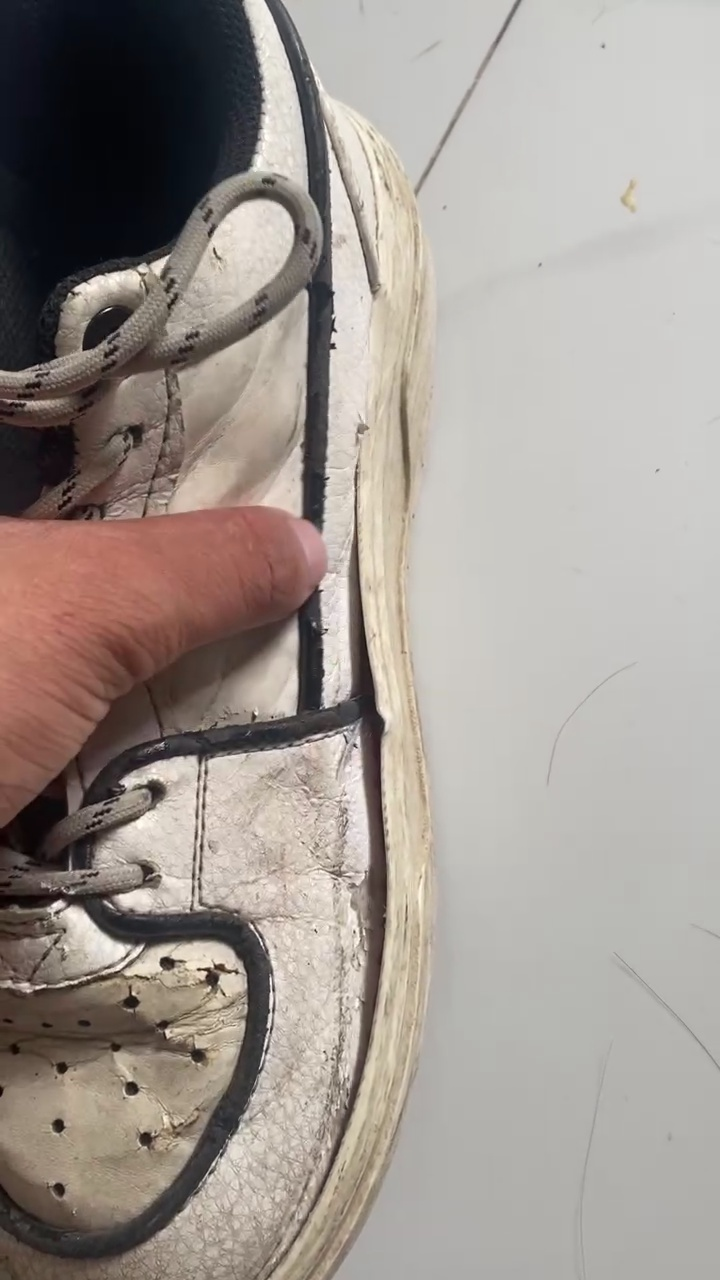bonding: (332, 600, 398, 1067)
